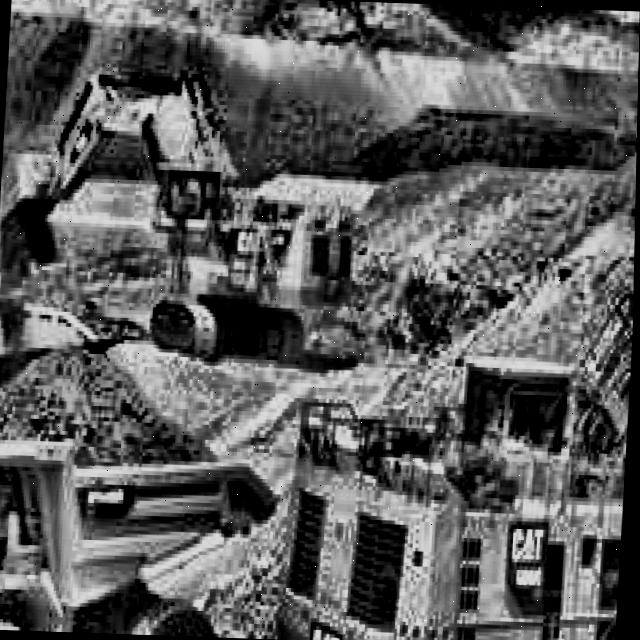dump_truck: (0, 346, 295, 639)
excavator: (283, 208, 636, 640), (0, 52, 369, 369)
